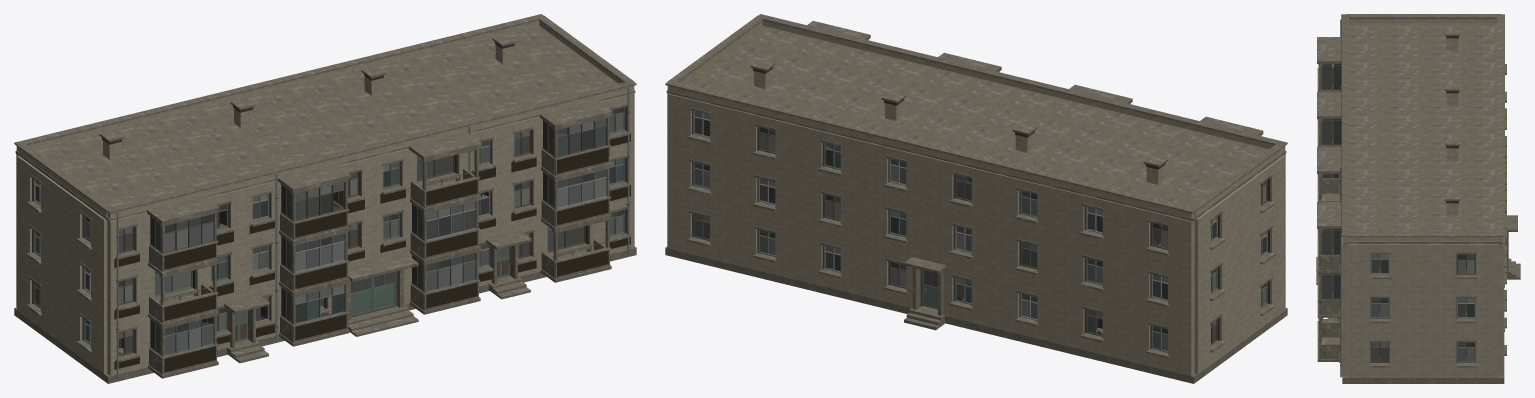
The model's file is WorkersDormitory.fbx.
The picture shows the model from 3 angles, left to right: view 1: azimuth 30°, elevation 25°; view 2: azimuth 150°, elevation 25°; view 3: azimuth 270°, elevation 25°; orthographic projection. The views are drawn at different scales.
Parts seen in each view (by area): view 1: Dorm_BuffBrick, Dorm_Concrete, Dorm_Roof, Dorm_SillRunoff.002, Dorm_Glass2, Dorm_FrameBrown, Dorm_FrameGreen, Dorm_FrameGrey, Dorm_Glass4, Dorm_Glass1, Dorm_Glass0, Dorm_Glass3 (+2 smaller); view 2: Dorm_BuffBrick, Dorm_Roof, Dorm_Concrete, Dorm_Interior, Dorm_FrameBrown, Dorm_Glass3, Dorm_Glass2, Dorm_FrameGrey, Dorm_FrameGreen, Dorm_Glass4, Dorm_Glass1, Dorm_Glass5 (+2 smaller); view 3: Dorm_Roof, Dorm_BuffBrick, Dorm_Concrete, Dorm_Glass2, Dorm_Glass4, Dorm_FrameBrown, Dorm_FrameGrey, Dorm_Glass3, Dorm_Interior, Dorm_FrameGreen, Dorm_Glass1, Dorm_Glass5.
Boxes of the visible parts, <box> form: Dorm_BuffBrick: <box>16,20,634,376</box>; Dorm_Concrete: <box>14,14,636,383</box>; Dorm_Roof: <box>15,25,635,221</box>; Dorm_SillRunoff.002: <box>114,133,630,372</box>; Dorm_Glass2: <box>35,109,614,353</box>; Dorm_FrameBrown: <box>34,111,630,366</box>; Dorm_FrameGreen: <box>34,107,625,356</box>; Dorm_FrameGrey: <box>34,87,629,378</box>; Dorm_Glass4: <box>40,107,623,349</box>; Dorm_Glass1: <box>35,115,623,354</box>; Dorm_Glass0: <box>35,127,623,354</box>; Dorm_Glass3: <box>35,113,623,351</box>; Dorm_BuffBrick: <box>667,20,1285,376</box>; Dorm_Roof: <box>666,25,1286,221</box>; Dorm_Concrete: <box>665,14,1287,383</box>; Dorm_Interior: <box>692,67,1269,349</box>; Dorm_FrameBrown: <box>693,127,1267,345</box>; Dorm_Glass3: <box>694,111,1266,350</box>; Dorm_Glass2: <box>694,117,1261,341</box>; Dorm_FrameGrey: <box>693,111,1267,320</box>; Dorm_FrameGreen: <box>693,143,1267,352</box>; Dorm_Glass4: <box>703,120,1266,334</box>; Dorm_Glass1: <box>694,145,1261,349</box>; Dorm_Glass5: <box>703,113,1266,317</box>; Dorm_Roof: <box>1343,23,1503,244</box>; Dorm_BuffBrick: <box>1342,18,1504,377</box>; Dorm_Concrete: <box>1316,14,1520,383</box>; Dorm_Glass2: <box>1322,64,1465,361</box>; Dorm_Glass4: <box>1333,64,1474,347</box>; Dorm_FrameBrown: <box>1322,64,1475,366</box>; Dorm_FrameGrey: <box>1340,19,1475,377</box>; Dorm_Glass3: <box>1371,254,1474,361</box>; Dorm_Interior: <box>1379,36,1474,363</box>; Dorm_FrameGreen: <box>1370,298,1475,362</box>; Dorm_Glass1: <box>1371,304,1465,361</box>; Dorm_Glass5: <box>1380,254,1474,302</box>.
Size of the model in its own units: 3271 by 1083 by 1255.
